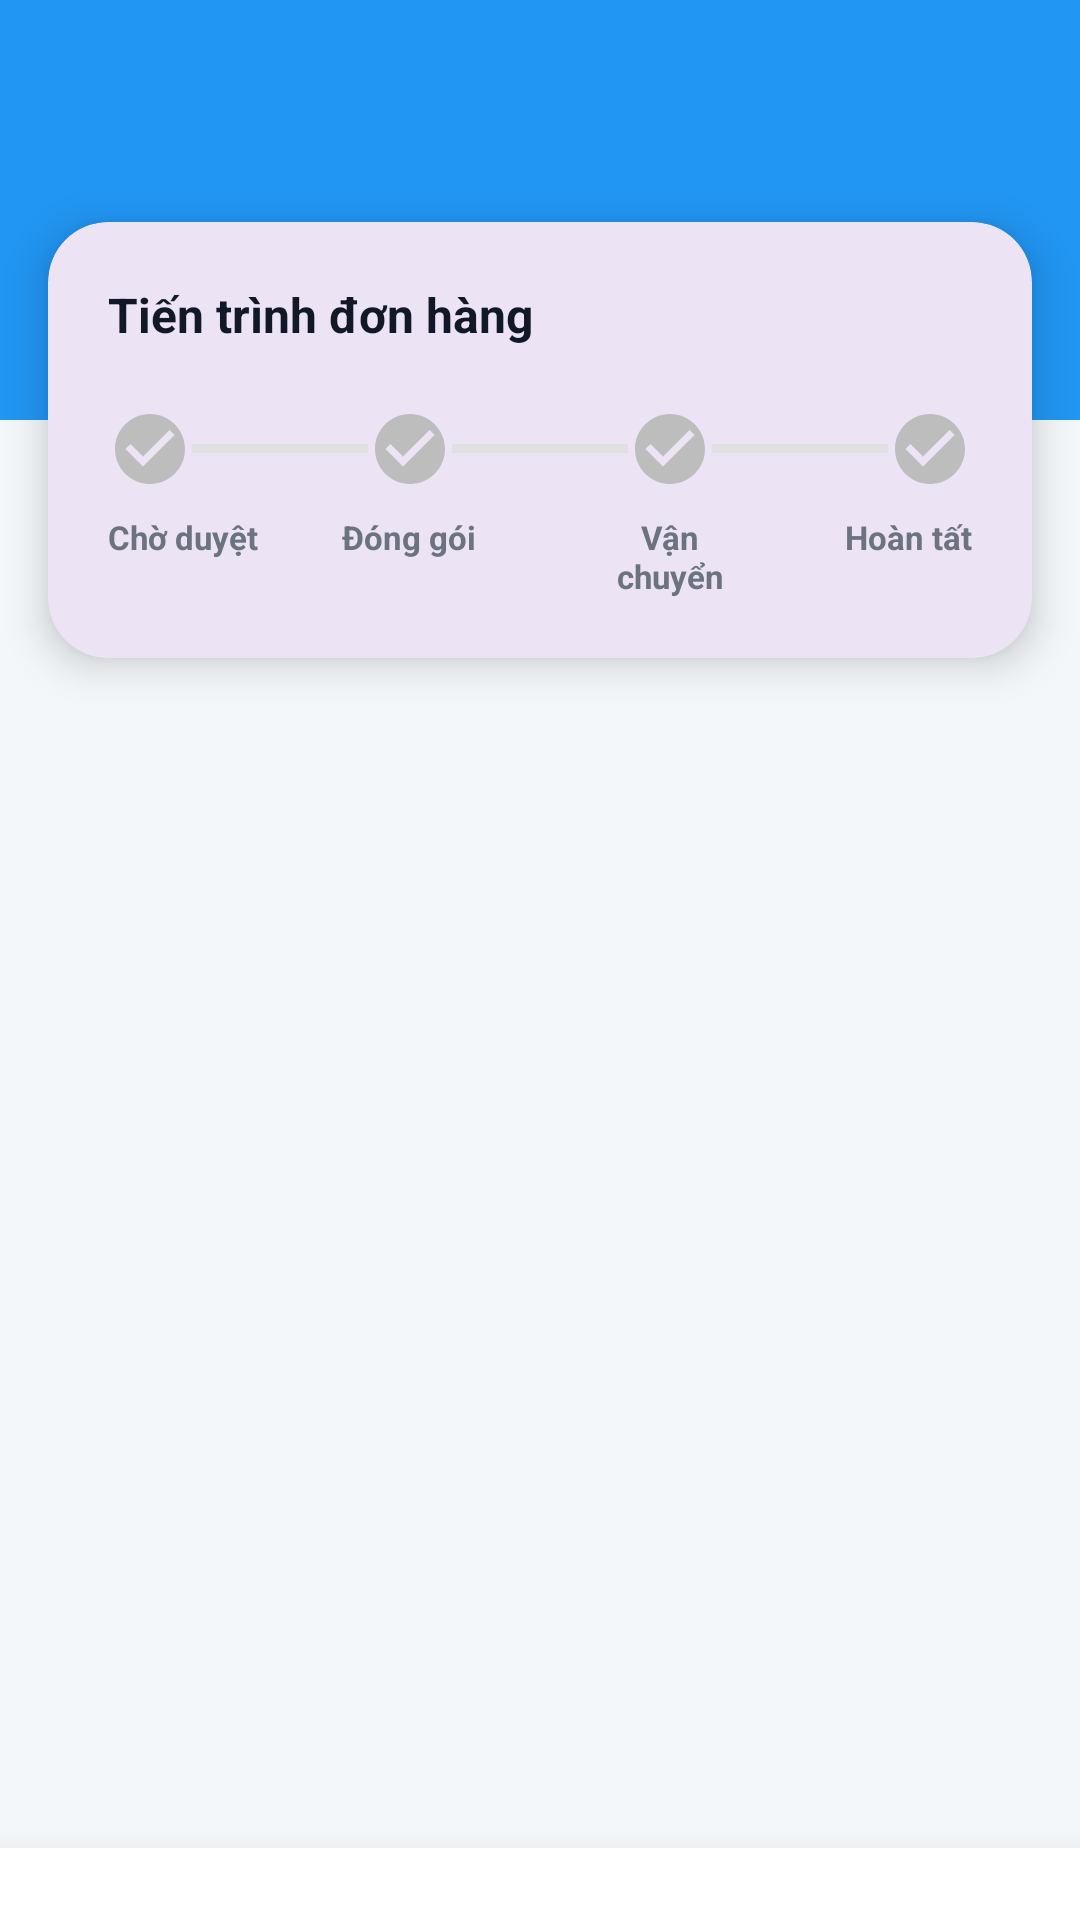

Named icons in this screenshot (1080w x 1920h) and their centers, (x,y):
check circle: (150,449), (410,449), (670,449), (930,449)
